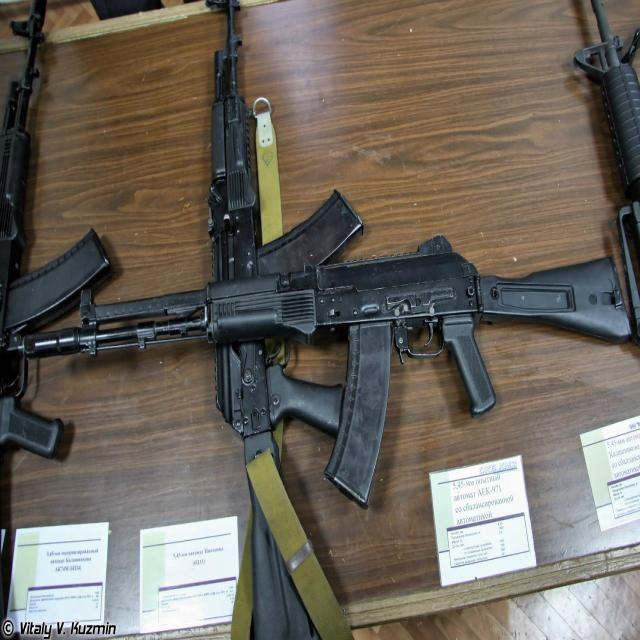firearm: (27, 235, 632, 517), (206, 0, 338, 640), (0, 4, 111, 487), (567, 1, 640, 344)
